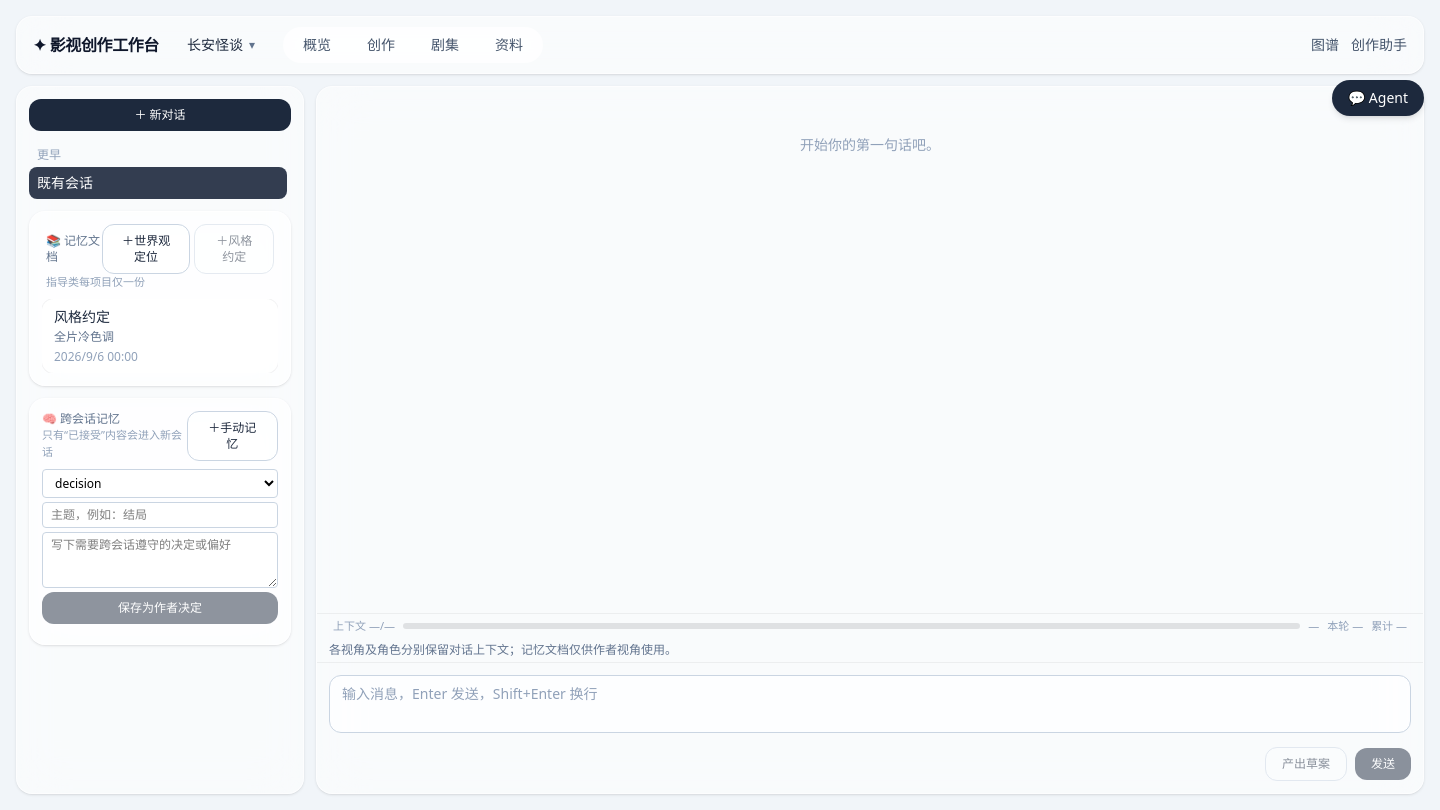
Test: F10 FU2: AgentHome › 草案产出→确认→确认请求携带草案 + 摘要消息（两段式闭环）
Type "加一个船医角色" into the text box with test id "agent-input" at (870, 704), box [329,675,1411,733]
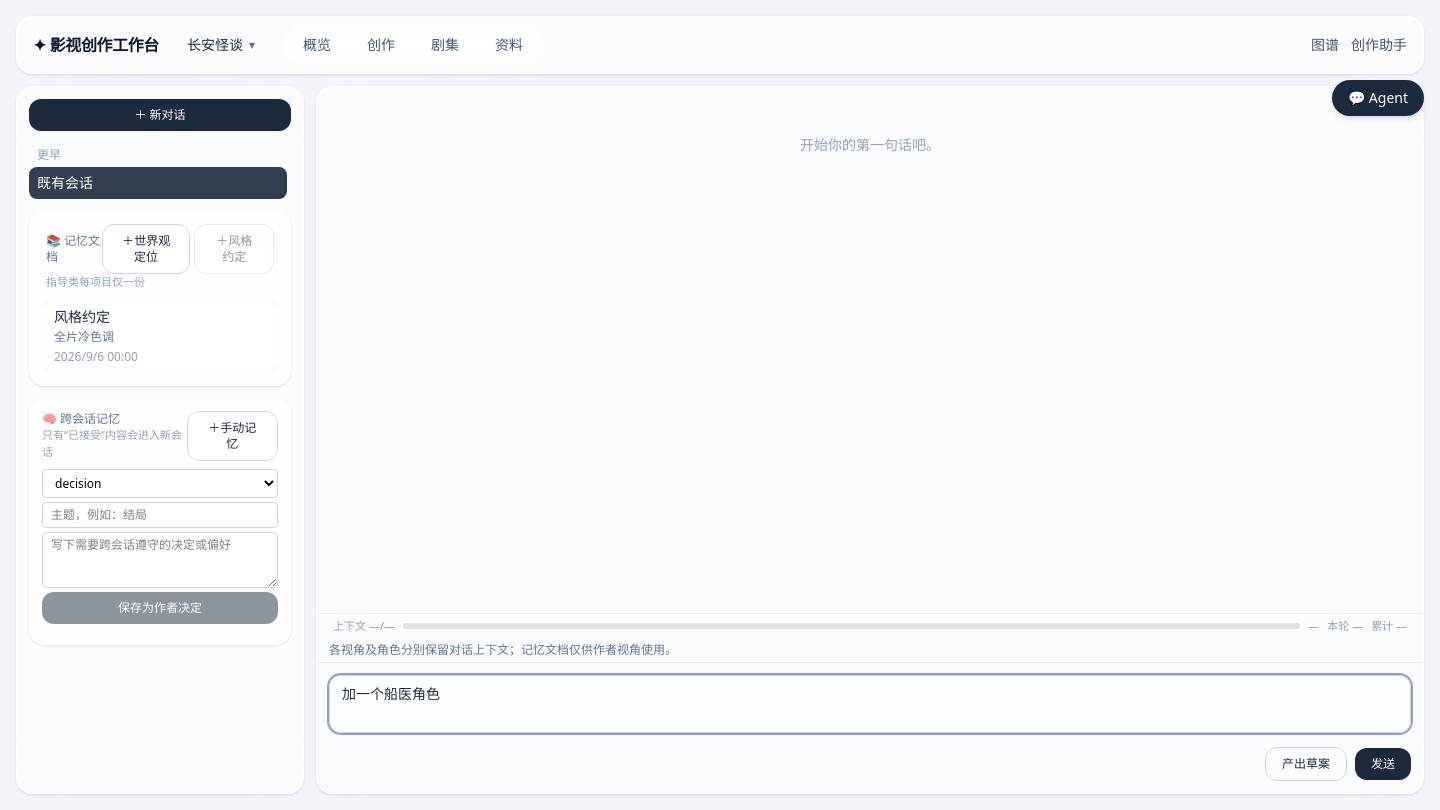
Click the button with test id "agent-propose" at (1306, 764), box [1265,747,1347,781]
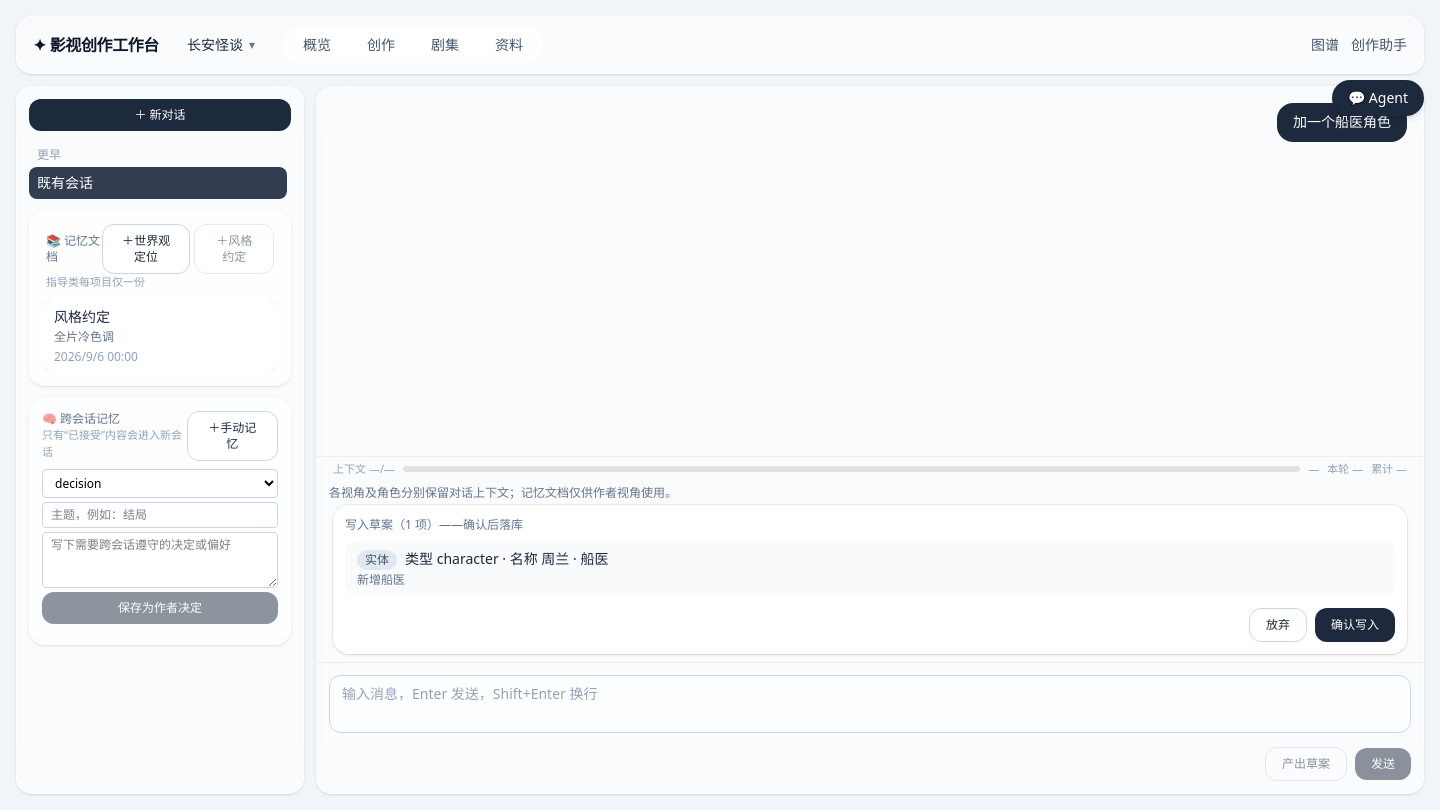
Result: the element with test id "agent-draft-card" is shown at [333,505,1407,654]
Result: the list item with test id "agent-draft-item" shows "周兰" at [405,549,608,568]
Click the button with test id "agent-draft-confirm" at (1355, 625), box [1315,608,1395,642]
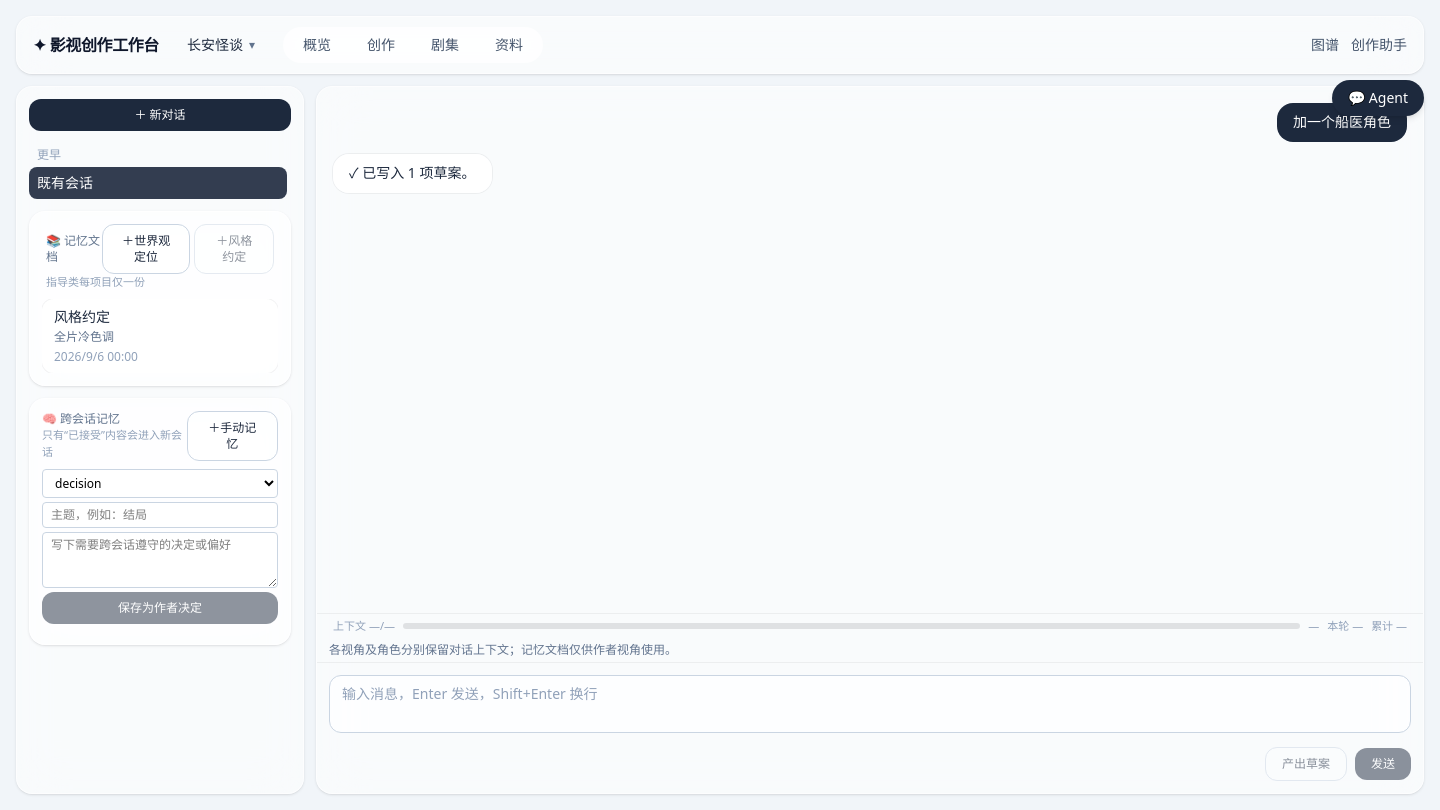
Result: the element with test id "agent-draft-card" is gone
